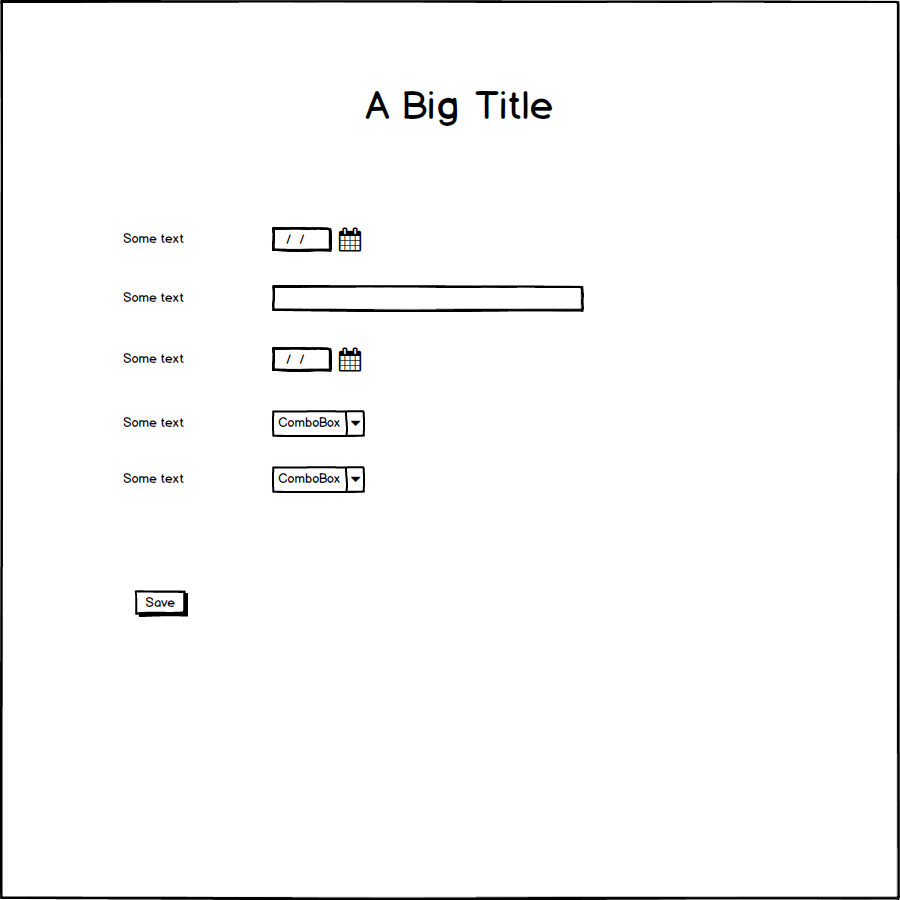button: (128, 584, 193, 619)
date_picker: (264, 218, 370, 260), (270, 338, 367, 380)
input: (267, 278, 589, 318)
label: (120, 221, 197, 256), (118, 466, 189, 491), (115, 286, 192, 308), (116, 347, 190, 369), (118, 411, 190, 432)
select_box: (267, 399, 378, 445), (270, 463, 370, 497)
